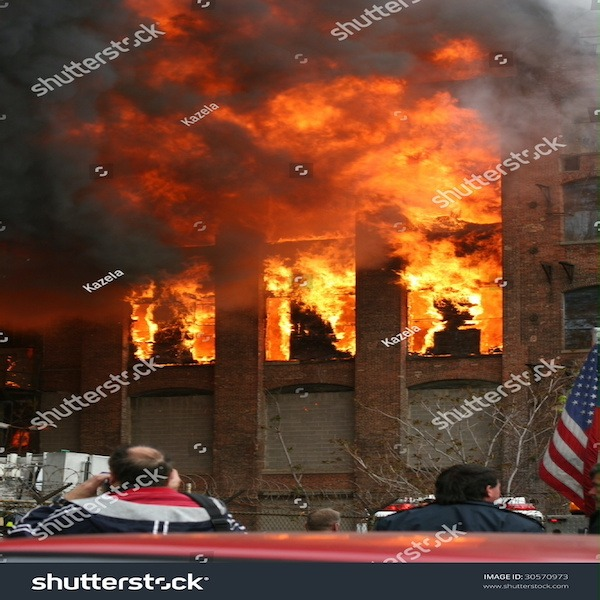fire: (257, 65, 480, 172), (401, 211, 506, 352), (265, 205, 355, 358), (126, 278, 214, 357)
